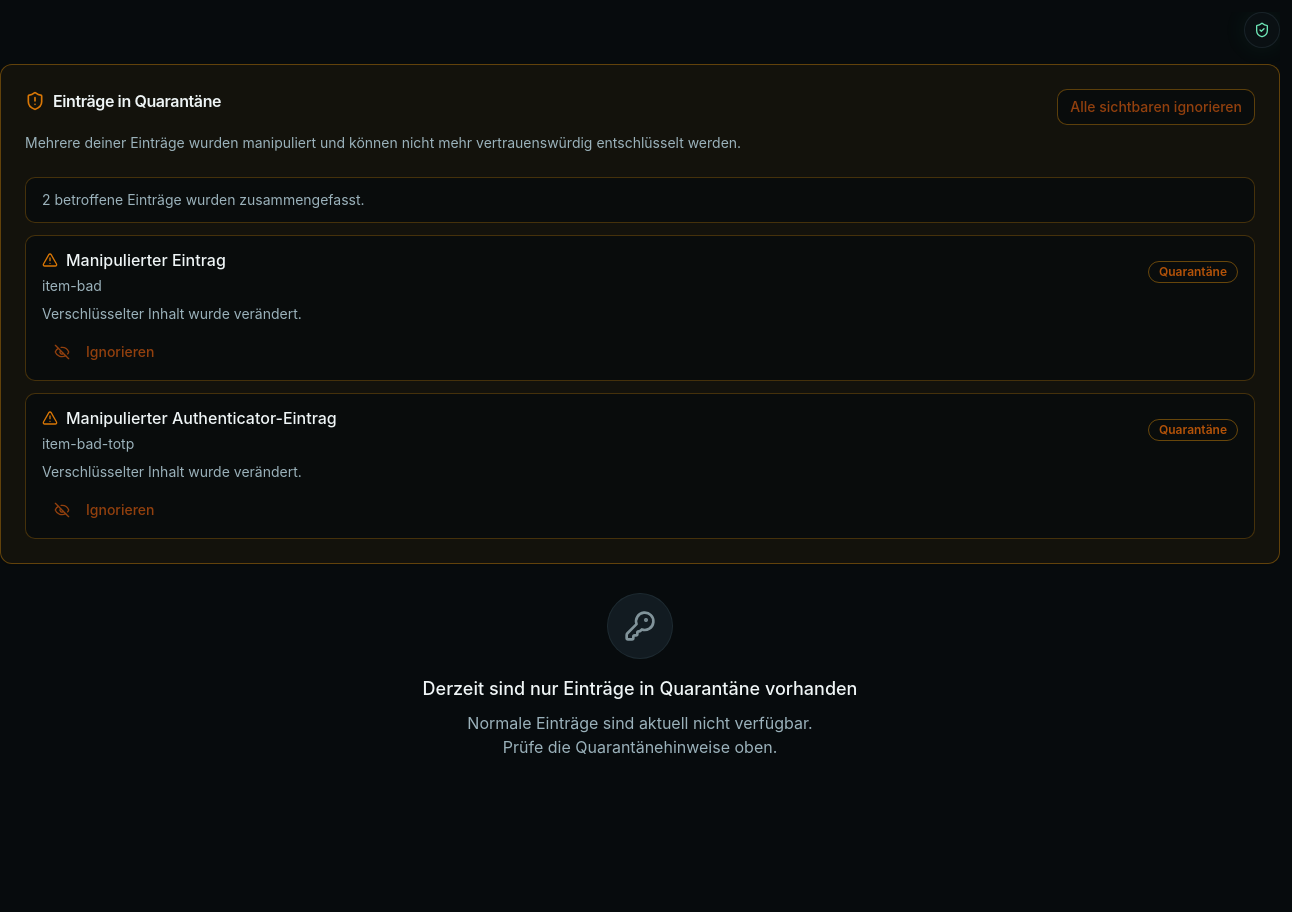
VaultItemList › ignores a single grouped quarantine entry without hiding the others
Expected: the text "2 betroffene Einträge wurden zusammengefasst." is shown, [25, 177, 1255, 223]
Click the button "Ignorieren" below "Manipulierter Eintrag".
click(104, 352)  # box [42, 336, 166, 368]
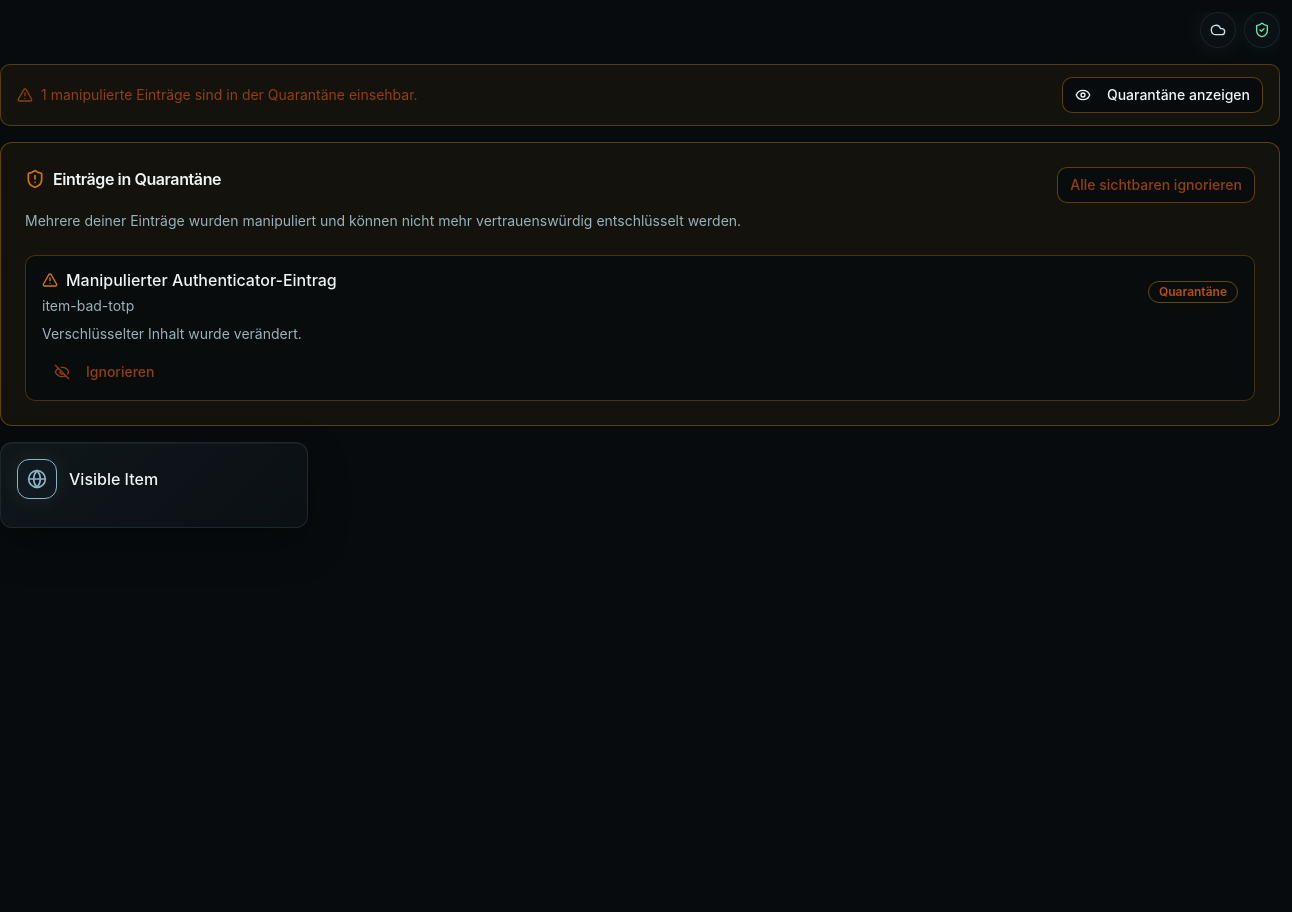
Expected: the text "item-bad-totp" is shown, [42, 297, 134, 314]
Expected: the text "2 betroffene Einträge wurden zusammengefasst." is gone
Expected: the text "1 manipulierte Einträge sind in der Quarantäne einsehbar." is shown, [17, 85, 418, 105]
Click the button "Quarantäne anzeigen".
click(1162, 95)  # box [1062, 77, 1263, 113]
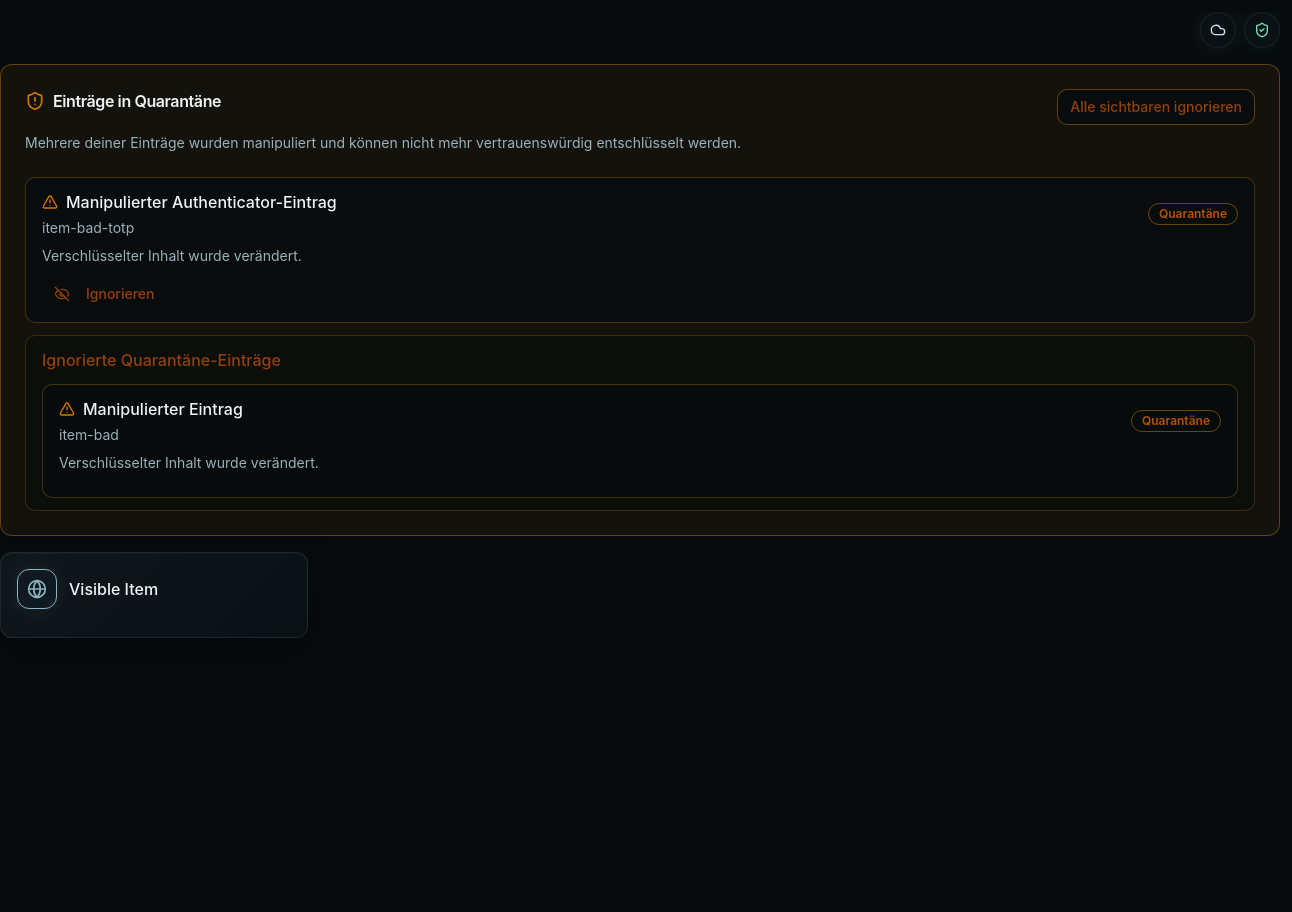
Expected: the text "Ignorierte Quarantäne-Einträge" is shown, [42, 350, 281, 370]
Expected: the text "item-bad" is shown, [59, 426, 119, 443]
